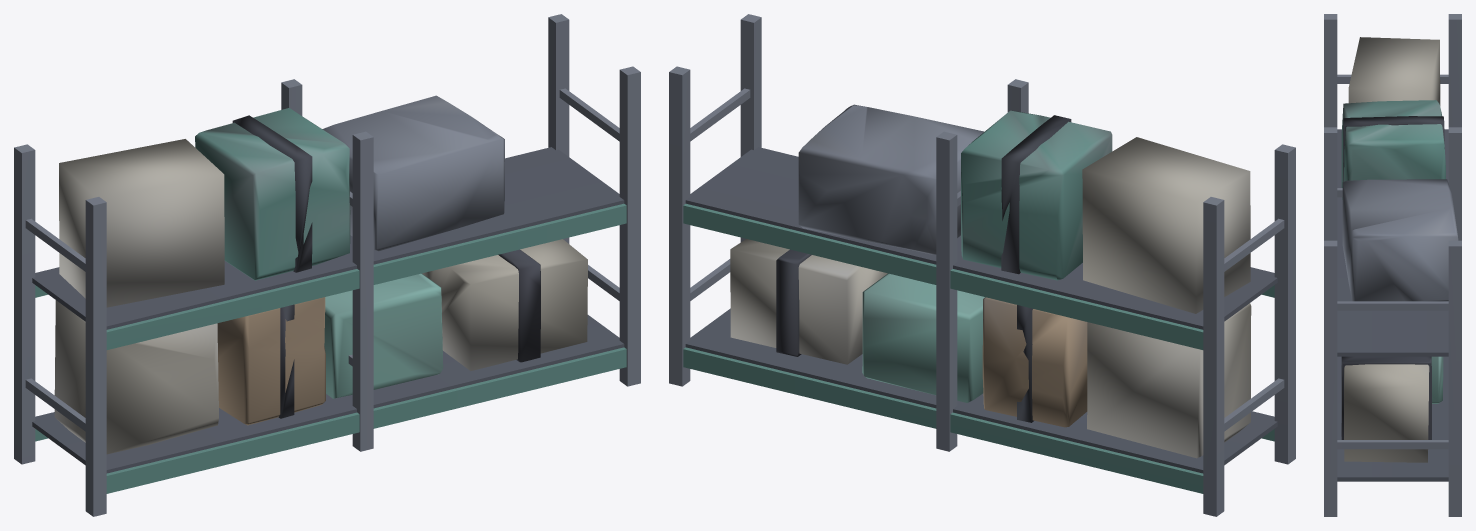
The model's file is bay_rack_b.glb.
The picture shows the model from 3 angles, left to right: view 1: azimuth 30°, elevation 25°; view 2: azimuth 150°, elevation 25°; view 3: azimuth 270°, elevation 25°; orthographic projection. The views are drawn at different scales.
Parts seen in each view (by area): view 1: rack; view 2: rack; view 3: rack.
Part boxes in pixels (x1,y1,x2,y2): rack: (14,14,640,516); rack: (669,14,1295,516); rack: (1324,14,1461,516).
Size of the model in its own units: 2.87 by 1.56 by 0.72.
